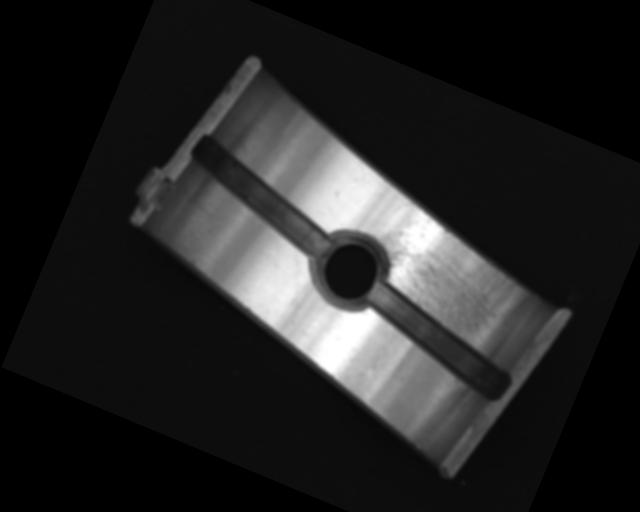gap: (170, 132, 350, 263), (347, 276, 528, 405)
hole: (298, 218, 400, 322)
scratch: (353, 192, 546, 366)
